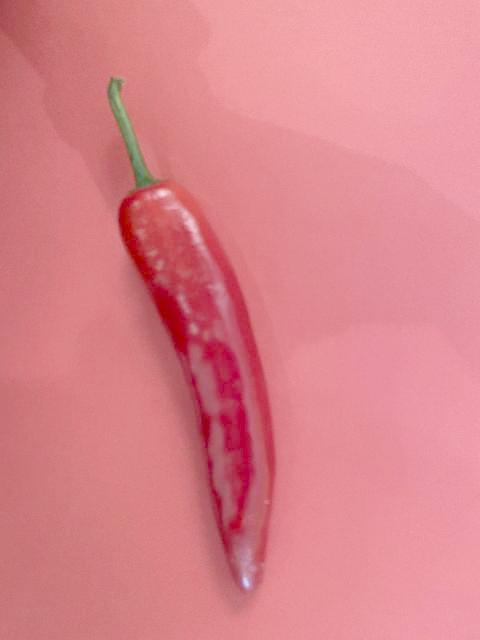chilli: (107, 76, 277, 596)
